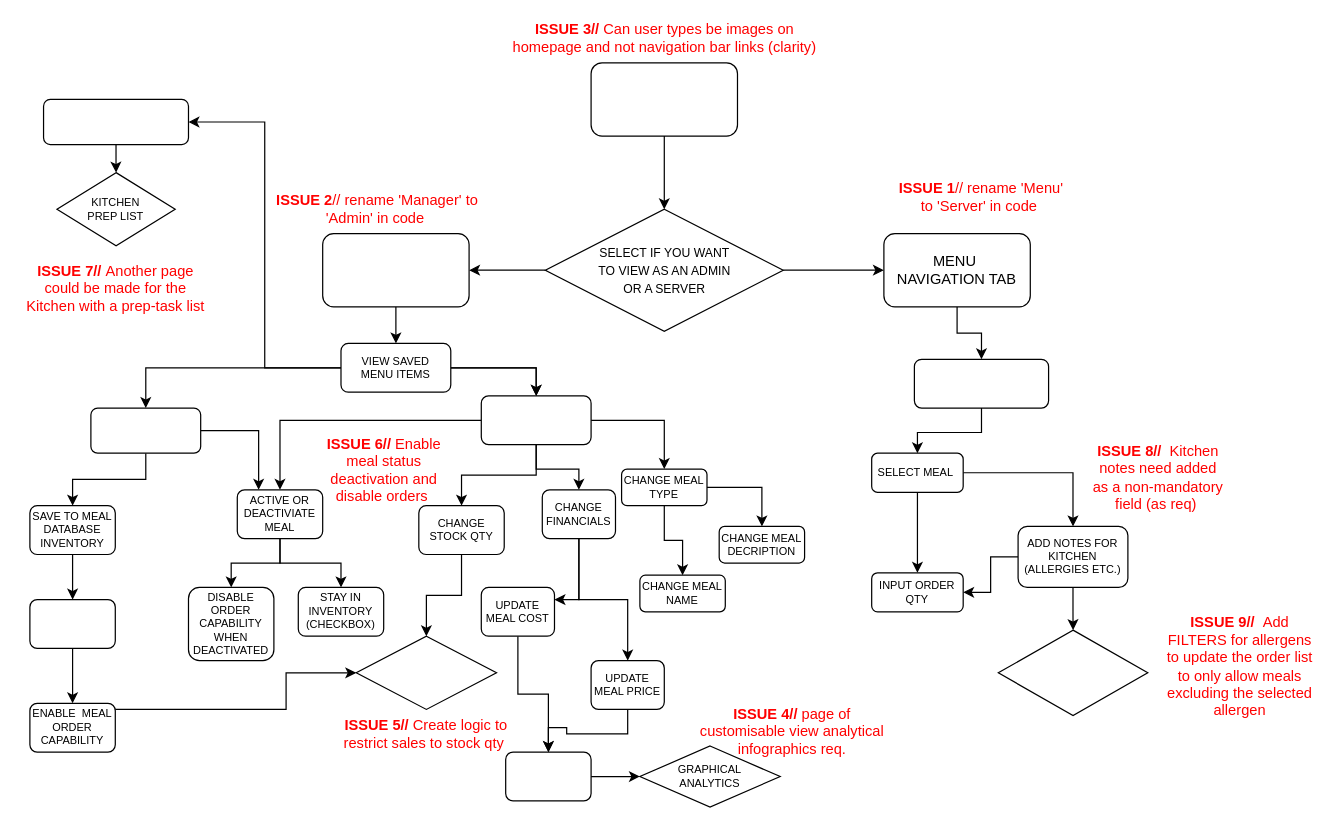
The diagram is 1336 pixels wide and 828 high, and some of its shapes have lost their labels. The centre of each missing label's shape, as x and y in pixels:
ADD NEW MENU ITEM: the point at 145,430
ALLERGY FILTER CHECKBOXES: the point at 1072,672
CALCULATE PROFIT PER UNIT: the point at 547,776
ENTER HOMEPAGE: the point at 663,99
LOGIC RESTRICTS SALE COUNT: the point at 426,672
MANAGER NAVIGATION TAB: the point at 395,269
SET MEAL ATTRIBUTES: the point at 72,623
UPDATE EXISTING MENU ITEM: the point at 535,420
VIEW MENU ITEMS (ACTIVE & INSTOCK ONLY): the point at 981,383
VISUAL INDICATOR OF LOW OR OUT OF STOCK ITEMS: the point at 115,121
